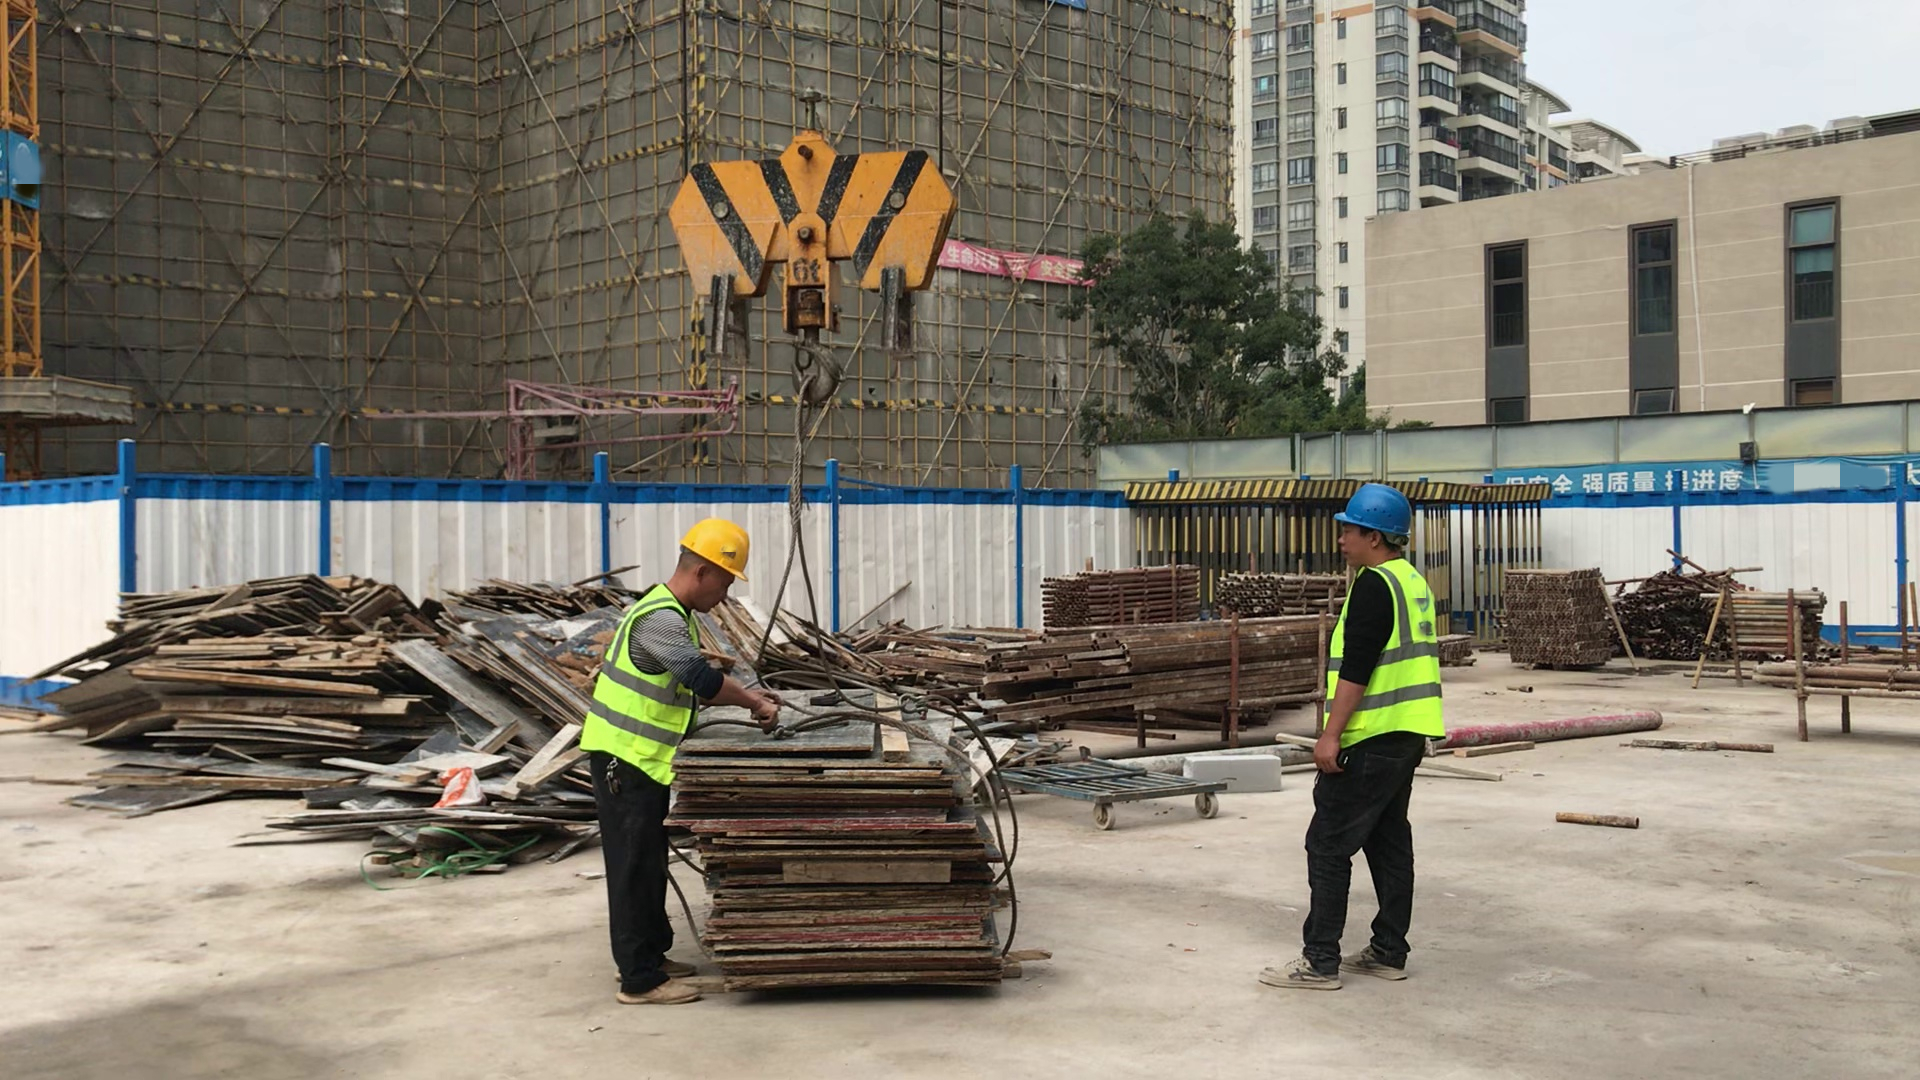board: (666, 743, 1035, 990)
helmet: (680, 517, 757, 580), (1333, 483, 1413, 540)
hook: (670, 157, 969, 401)
person: (581, 519, 778, 1004), (1255, 480, 1438, 997)
scaffold: (1506, 571, 1607, 663), (1041, 564, 1200, 618), (1709, 592, 1817, 659), (1221, 572, 1348, 619)
slogan: (1494, 468, 1920, 493), (947, 239, 1096, 282)
vest: (1318, 556, 1448, 750), (581, 583, 700, 786)
